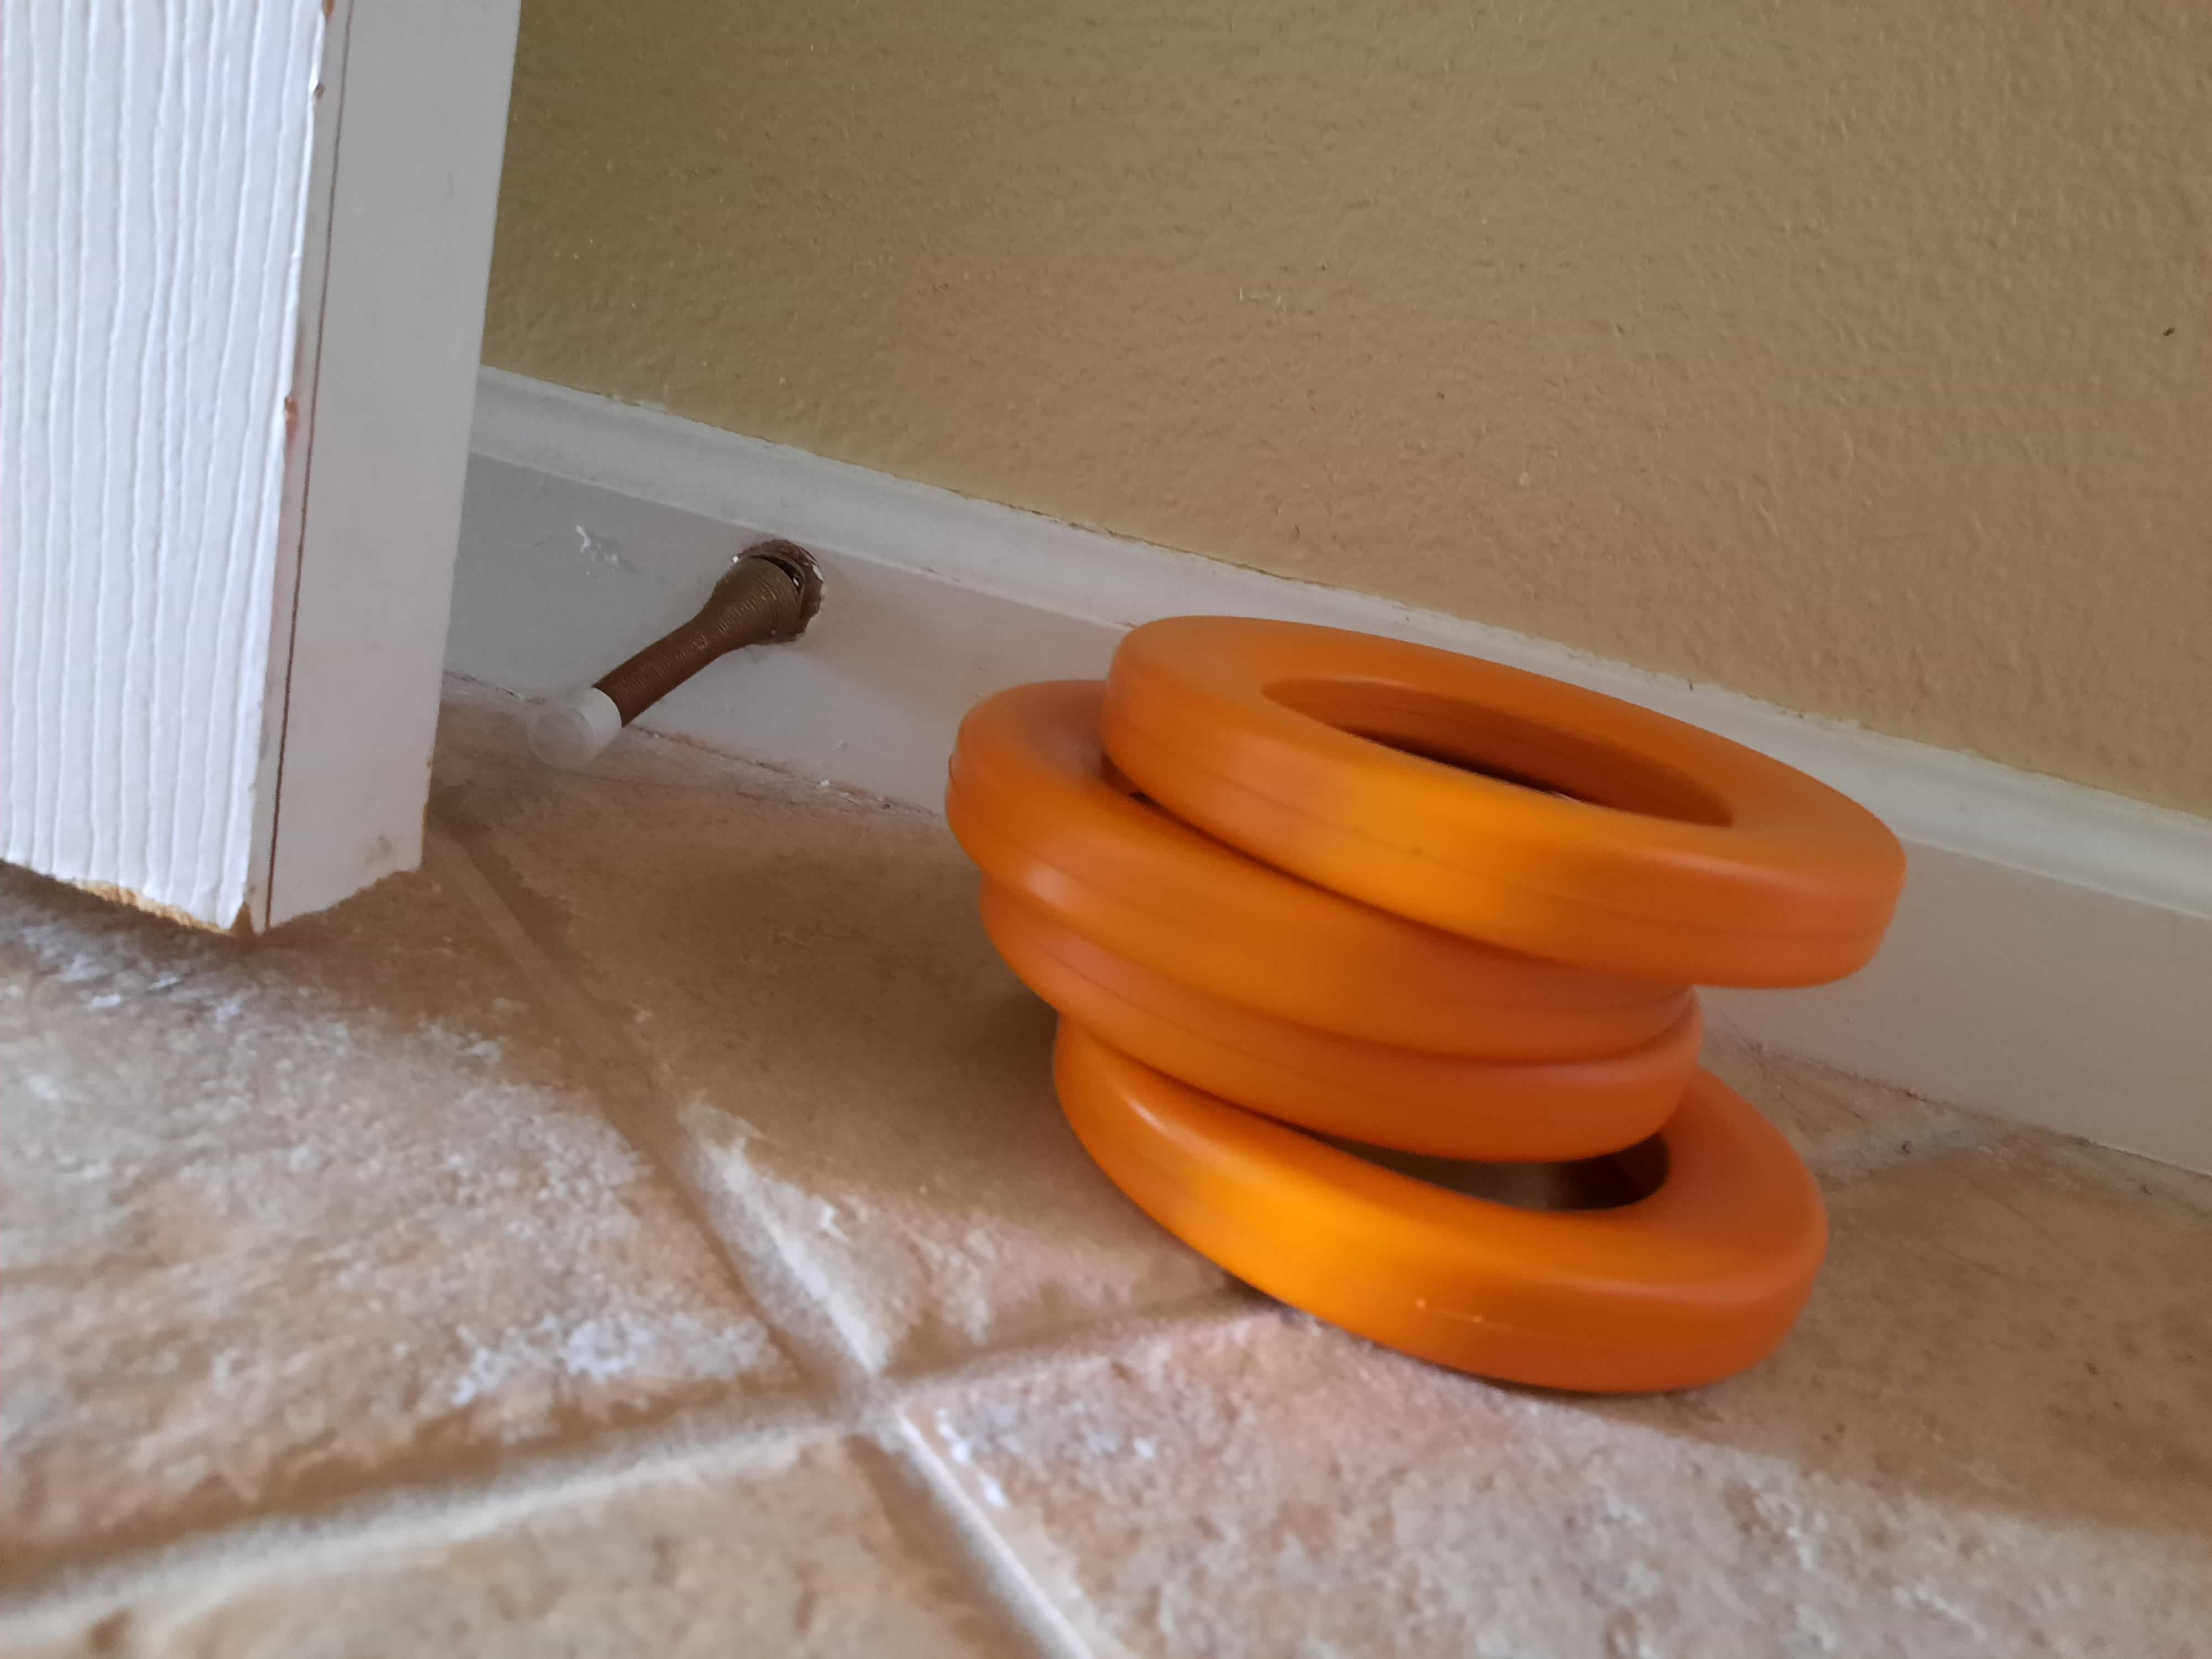FourStack: (942, 608, 1883, 1380)
